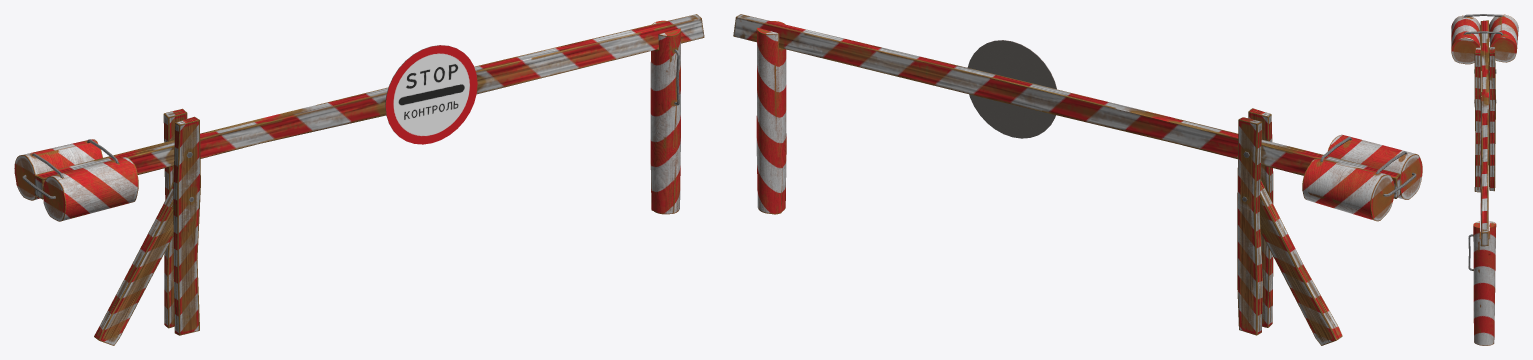
Rendered from russian_military_barrier_checkpoint__game_ready.glb.
3 views of the same model, side by side, from view 1: azimuth 30°, elevation 25°; view 2: azimuth 150°, elevation 25°; view 3: azimuth 270°, elevation 25° (orthographic). The views are drawn at different scales.
Parts seen in each view (by area): view 1: Object_2; view 2: Object_2; view 3: Object_2.
Part boxes in pixels (x1=…): Object_2: x1=14, y1=14, x2=704, y2=345; Object_2: x1=733, y1=14, x2=1422, y2=345; Object_2: x1=1451, y1=14, x2=1518, y2=345.
Size of the model in its own units: 5.9 by 1.89 by 0.7869.
Materials: 1 (1 with a texture image).
